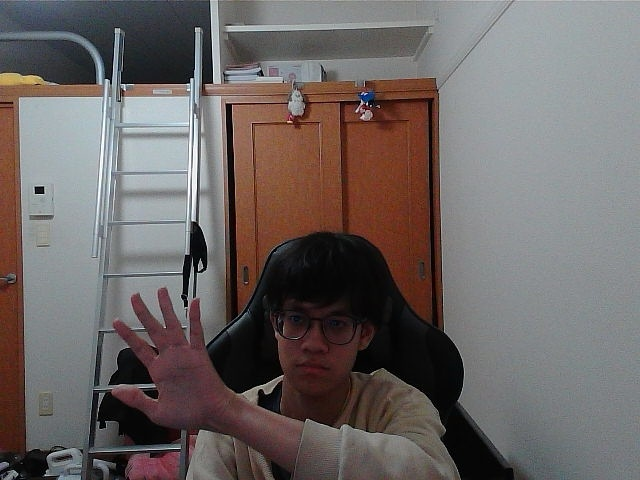open_palm: (118, 293, 207, 422)
